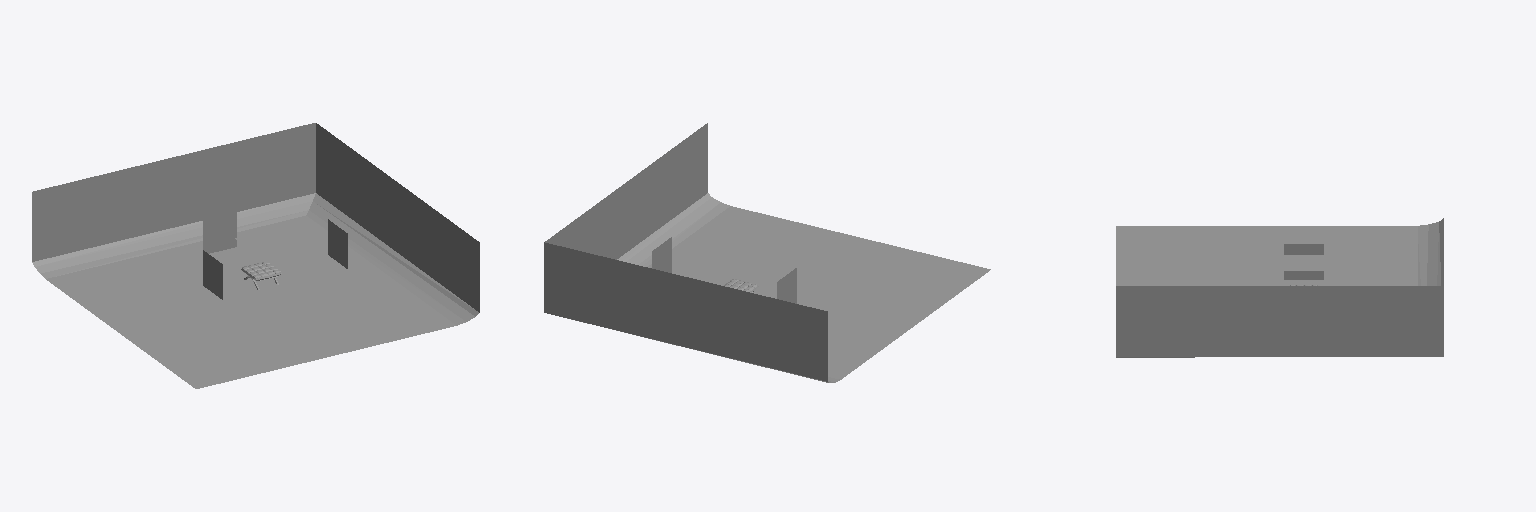
Rendered from tahseen_seat.obj.
The picture shows the model from 3 angles: view 1: azimuth 30°, elevation 25°; view 2: azimuth 150°, elevation 25°; view 3: azimuth 270°, elevation 25°; orthographic projection.
Visible parts, largest first — view 1: Cube.001, Plane.006_Plane.007, Plane.004_Plane.005, Plane.005_Plane.006, Plane.003_Plane.004; view 2: Cube.001, Plane.003_Plane.004, Plane.005_Plane.006, Plane.004_Plane.005; view 3: Cube.001, Plane.004_Plane.005, Plane.003_Plane.004.
Part boxes in pixels (left/top/right/bottom): Cube.001: left=32, top=123, right=479, bottom=388; Plane.006_Plane.007: left=203, top=211, right=236, bottom=253; Plane.004_Plane.005: left=203, top=250, right=222, bottom=299; Plane.005_Plane.006: left=328, top=219, right=347, bottom=268; Plane.003_Plane.004: left=235, top=230, right=287, bottom=252; Cube.001: left=544, top=123, right=990, bottom=382; Plane.003_Plane.004: left=712, top=247, right=764, bottom=269; Plane.005_Plane.006: left=652, top=237, right=671, bottom=272; Plane.004_Plane.005: left=777, top=268, right=796, bottom=303; Cube.001: left=1116, top=218, right=1443, bottom=357; Plane.004_Plane.005: left=1284, top=244, right=1323, bottom=279; Plane.003_Plane.004: left=1284, top=255, right=1323, bottom=270.
Bounding box in the file's own units: 58.25 × 15.32 × 58.25.